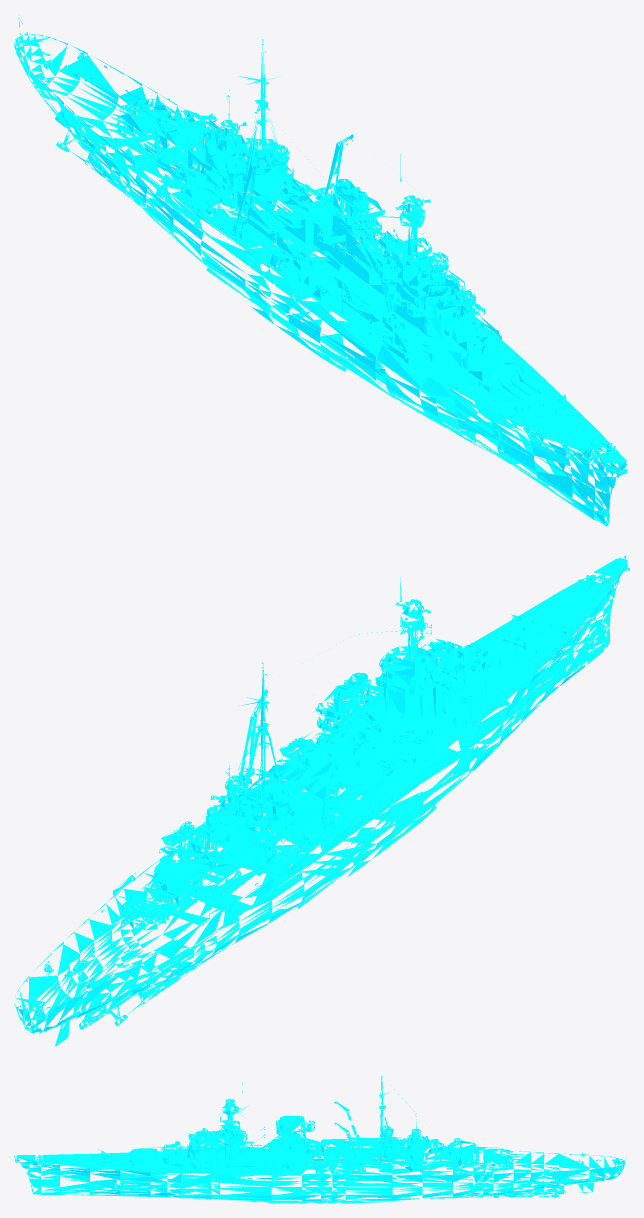
File: PGSC809.glb
3 views of the same model, one above another, from view 1: azimuth 30°, elevation 25°; view 2: azimuth 150°, elevation 25°; view 3: azimuth 270°, elevation 25° (orthographic). The views are drawn at different scales.
Visible parts, largest first — view 1: hull, turret; view 2: hull, turret; view 3: hull, turret.
Part boxes in pixels (x1=…): hull: x1=14, y1=15, x2=627, y2=526; turret: x1=105, y1=90, x2=541, y2=398; hull: x1=14, y1=555, x2=629, y2=1046; turret: x1=105, y1=624, x2=541, y2=934; hull: x1=14, y1=1075, x2=626, y2=1203; turret: x1=110, y1=1138, x2=531, y2=1173.
Size of the model in its own units: 1.72 by 3.18 by 14.9.
